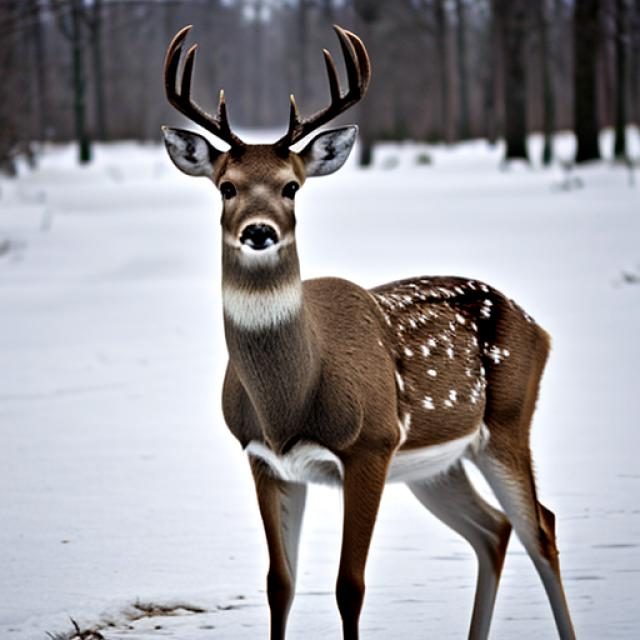deer: (126, 11, 568, 561)
